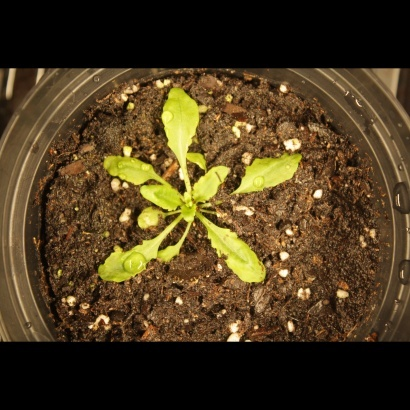leaf: (202, 220, 271, 288), (156, 81, 202, 163), (228, 151, 310, 196), (97, 236, 159, 286), (99, 150, 159, 189), (193, 164, 233, 206), (143, 181, 192, 213), (131, 204, 166, 234), (155, 239, 186, 265), (186, 148, 209, 171), (179, 201, 202, 224)
